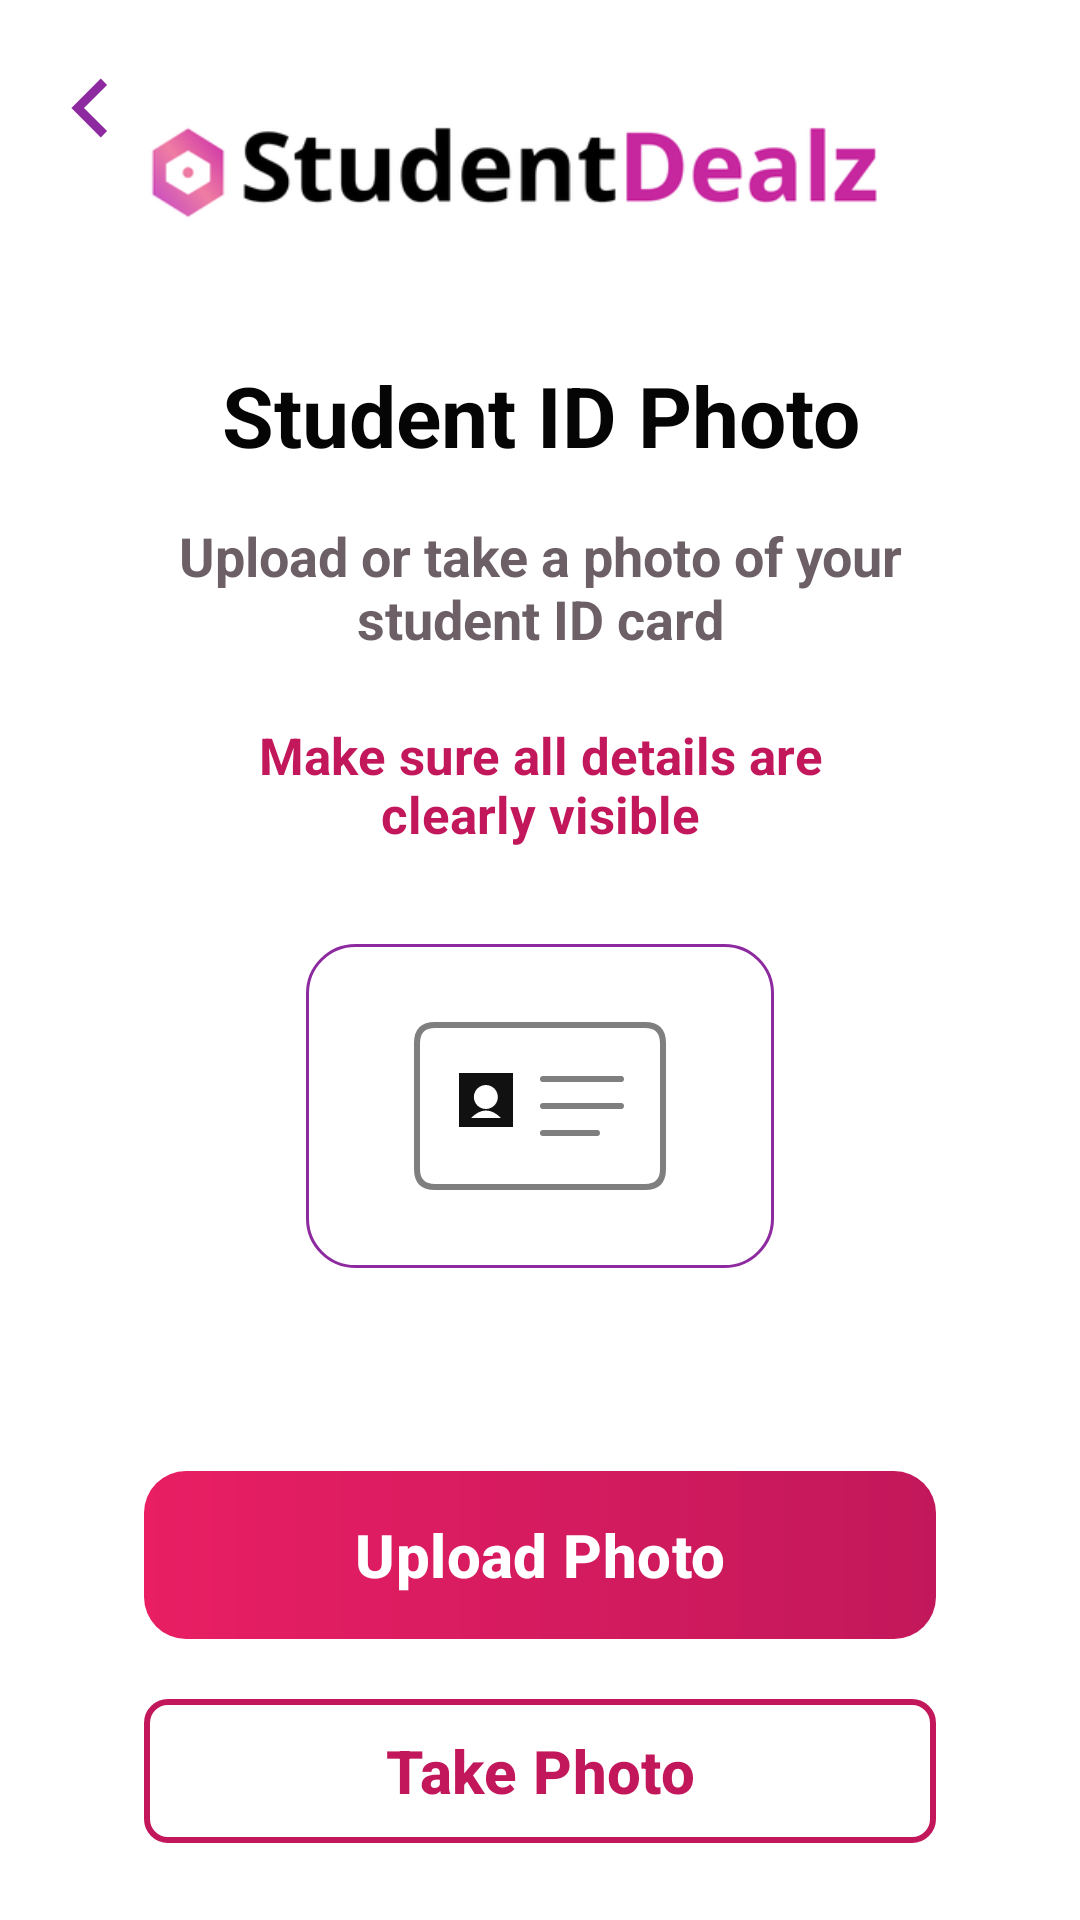

Point at icon controls on the screen. Image size 1080w x 1920h, points as (x,y).
Back: (89,108)
Student ID Photo: (540,1106)
